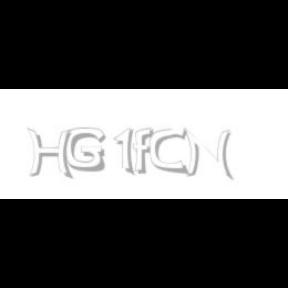1: (113, 128, 135, 176)
C: (150, 128, 186, 174)
G: (65, 128, 105, 172)
H: (27, 128, 73, 180)
N: (182, 128, 232, 180)
f: (133, 128, 157, 174)
